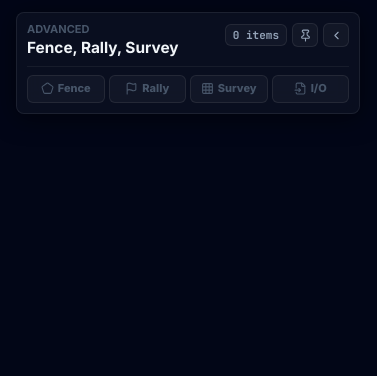
Test: AdvancedMissionPanel › keeps Survey and Fence map drafts separate in their tabs
What coordinates should you click on to do the following:
click the tab "Fence"
I would click on:
 (66, 89)
Its box is [27,75,104,103].
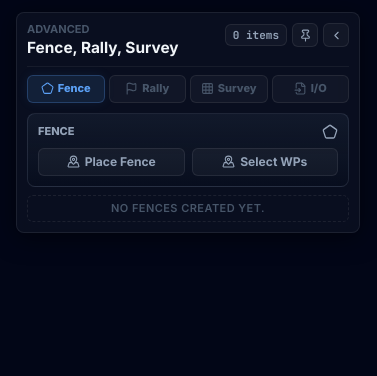
Expected: the text "3 vertices - ready to create" is not shown
Expected: the text "Place Fence" is shown, [85,156,156,168]
What coordinates should you click on to do the following:
click the tab "Survey"
I would click on:
 (229, 89)
Its box is [190,75,268,103].
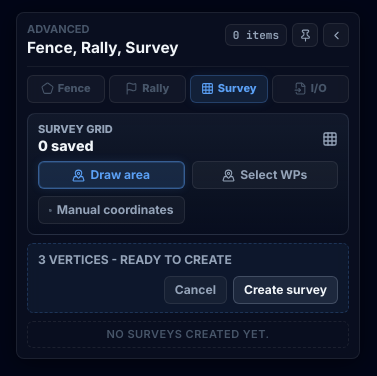
Expected: the text "3 vertices - ready to create" is shown, [38,252,232,267]
